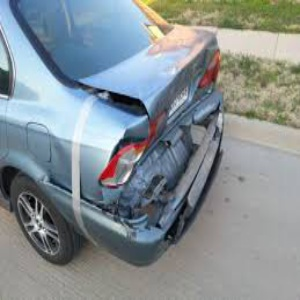bonnet: (117, 57, 190, 116)
bumper: (104, 194, 196, 262)
tail_lights: (94, 127, 164, 180)
